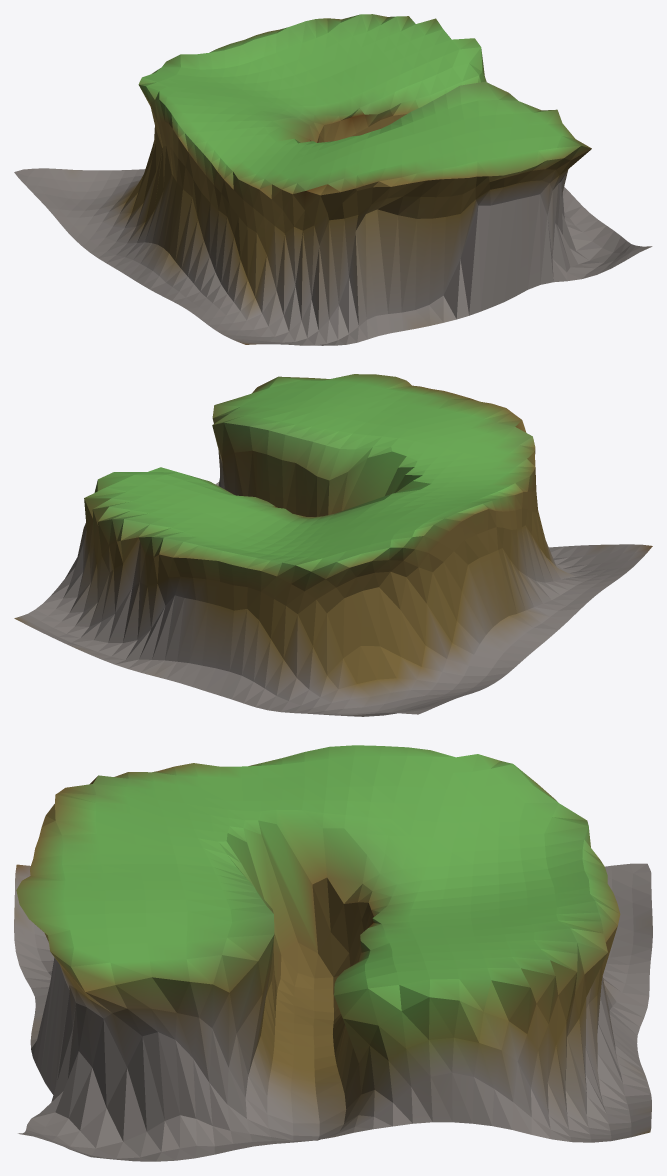
3 views of the same model, one above another, from view 1: azimuth 30°, elevation 25°; view 2: azimuth 150°, elevation 25°; view 3: azimuth 270°, elevation 25° (orthographic). The views are drawn at different scales.
Parts seen in each view (by area): view 1: Plane; view 2: Plane; view 3: Plane.
Part boxes in pixels (bbox=[...]): Plane: bbox=[14, 14, 652, 345]; Plane: bbox=[14, 374, 652, 716]; Plane: bbox=[14, 745, 652, 1161].
Size of the model in its own units: 1423 by 495 by 1407.
